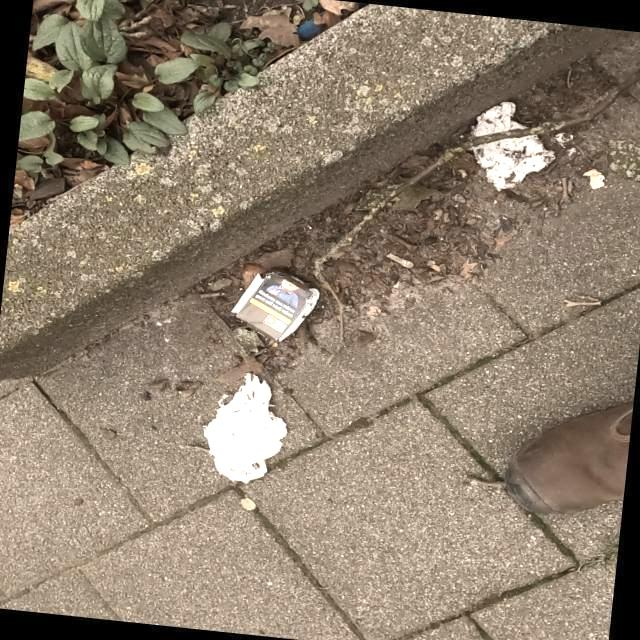Paper: (202, 370, 288, 486), (468, 98, 558, 194), (228, 268, 322, 344)
Plastic: (582, 168, 606, 190)
